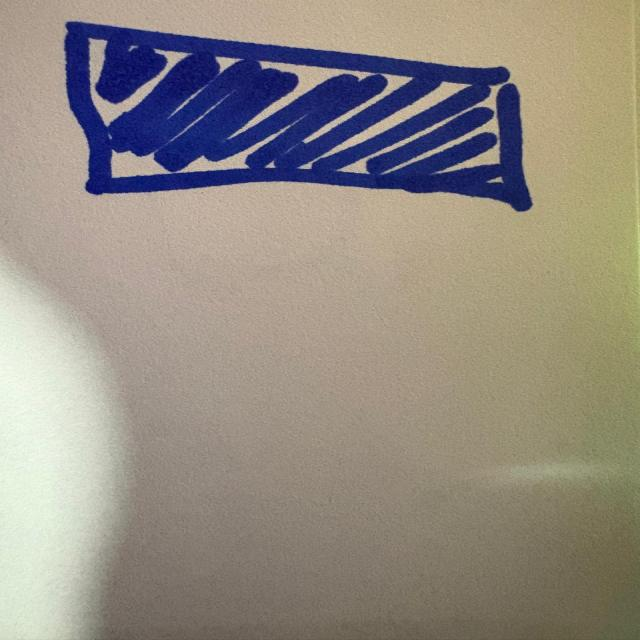Rectangle: (47, 15, 552, 220)
